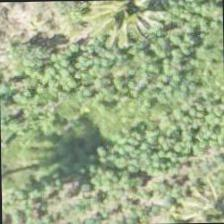Kelapa_Sawit: (75, 0, 167, 63)
